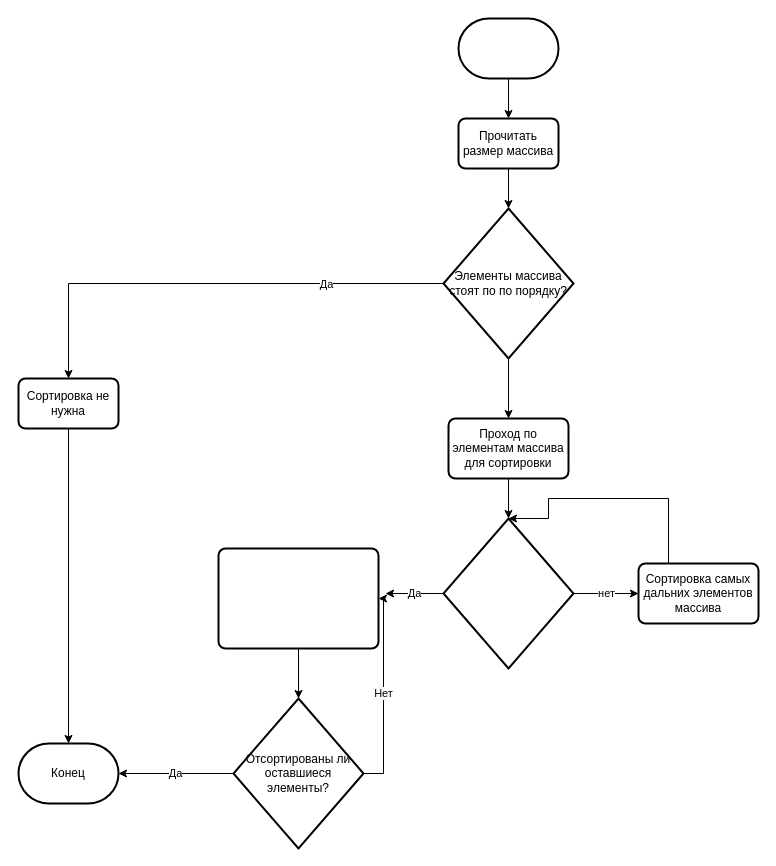
The diagram is 776 pixels wide and 866 high, and some of its shapes have lost their labels. The centre of each missing label's shape, as x and y in pixels:
Начало: [508,48]
Отсортированы ли самые дальние элементы?: [508,593]
сдвигаем границу массива на 1 позицию слева и справа , и продолжаем сортировку: [298,598]
